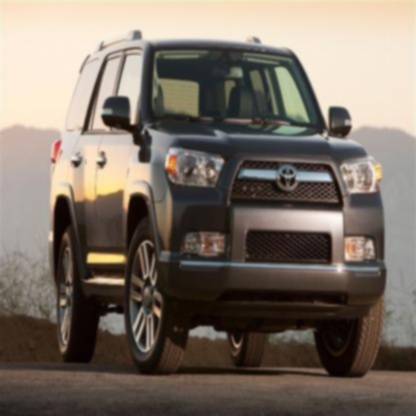Vehicle: (46, 28, 392, 381)
